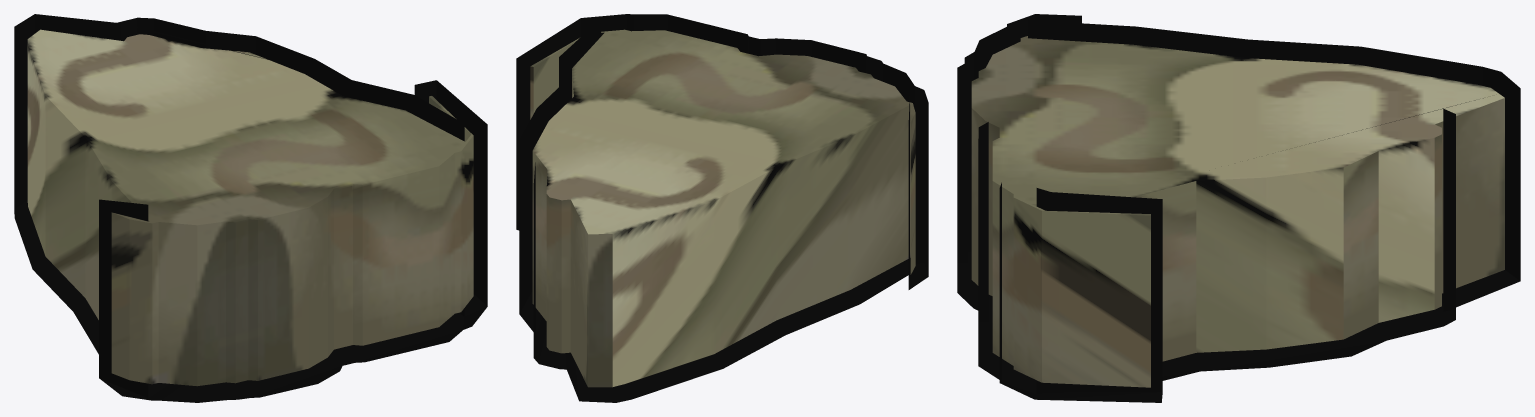
File: Building_Hive_Things_Building_Natural_Hive_HiveB.glb
3 renders of one model, left to right at view 1: azimuth 30°, elevation 25°; view 2: azimuth 150°, elevation 25°; view 3: azimuth 270°, elevation 25°, orthographic. The views are drawn at different scales.
Parts seen in each view (by area): view 1: Body, Outline; view 2: Body, Outline; view 3: Body, Outline.
Part boxes in pixels (bbox=[...]): Body: bbox=[27, 29, 473, 386]; Outline: bbox=[14, 14, 487, 402]; Body: bbox=[530, 29, 915, 387]; Outline: bbox=[516, 14, 928, 402]; Body: bbox=[971, 36, 1504, 387]; Outline: bbox=[957, 14, 1520, 402].
Bounding box in the file's own units: 0.9197 × 0.4541 × 1.12.
Materials: 2 (1 with a texture image).
